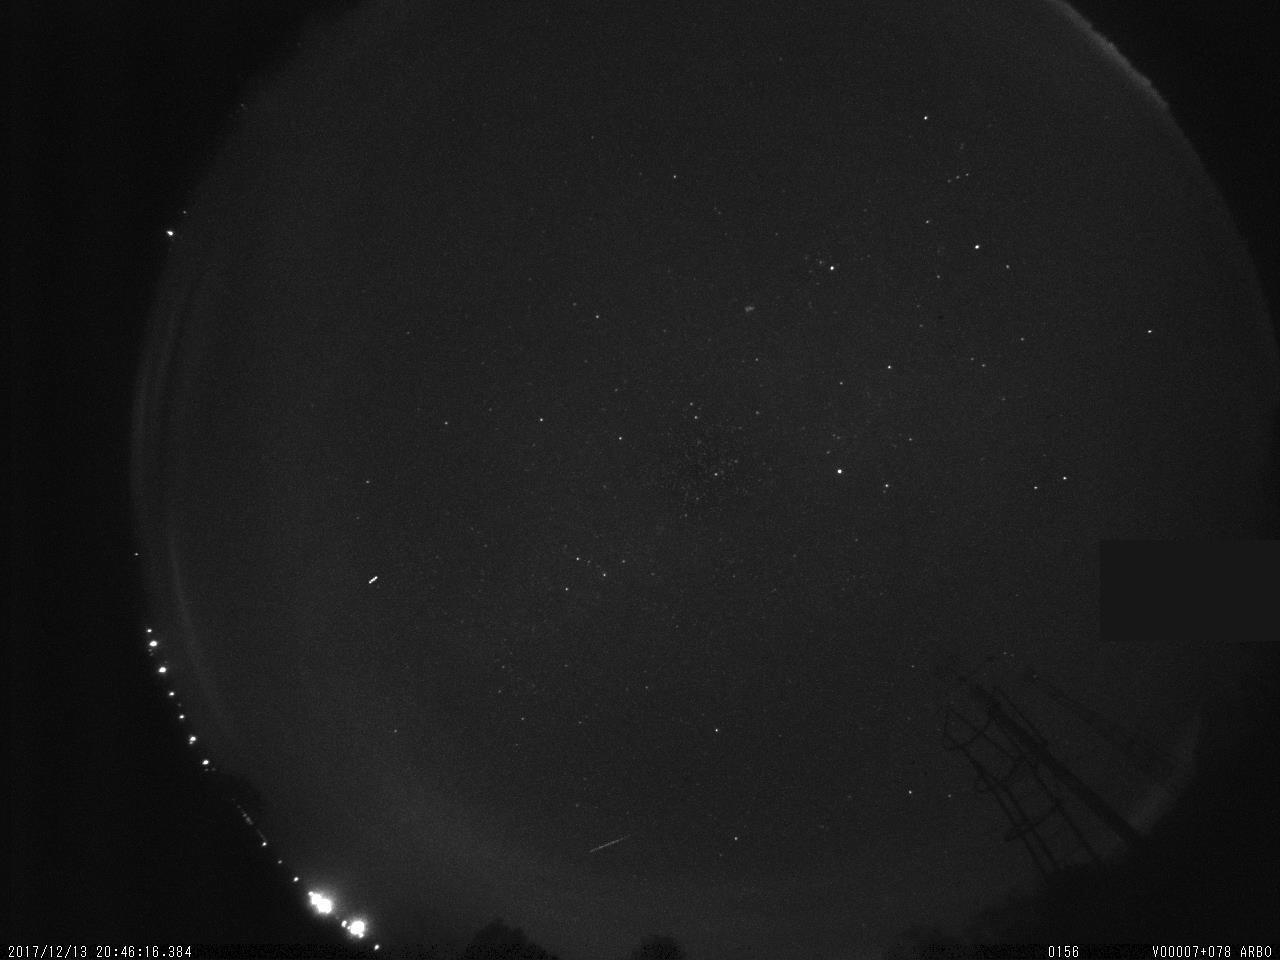Meteor: (581, 827, 635, 863)
